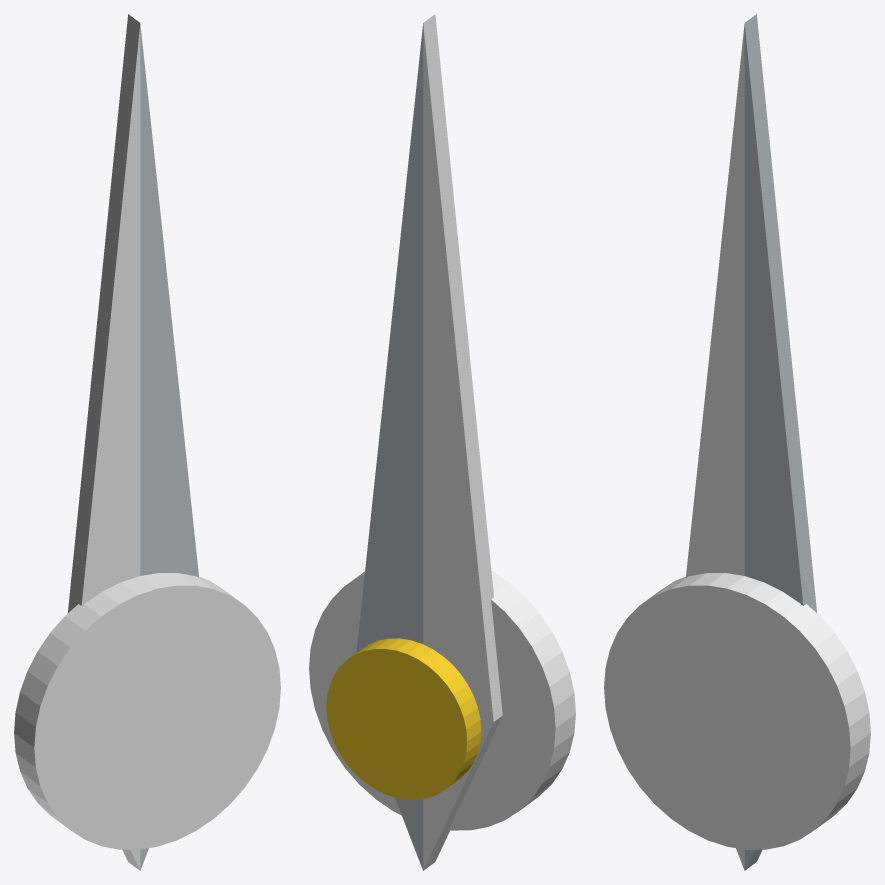
Rendered from ponteiro.glb.
3 views of the same model, side by side, from view 1: azimuth 30°, elevation 25°; view 2: azimuth 150°, elevation 25°; view 3: azimuth 330°, elevation 25° (orthographic).
Parts seen in each view (by area): view 1: horn_original_representado, ponteiro_afilado_claro, ponteiro_afilado_sombra; view 2: ponteiro_afilado_claro, ponteiro_afilado_sombra, horn_original_representado, cubo_ponteiro; view 3: horn_original_representado, ponteiro_afilado_sombra, ponteiro_afilado_claro.
Boxes of the visible parts, box(x1,y1,x2,y2) form: horn_original_representado: box(14, 573, 280, 849); ponteiro_afilado_claro: box(68, 14, 140, 870); ponteiro_afilado_sombra: box(140, 24, 198, 870); ponteiro_afilado_claro: box(423, 14, 502, 870); ponteiro_afilado_sombra: box(356, 23, 423, 870); horn_original_representado: box(309, 570, 575, 830); cubo_ponteiro: box(326, 638, 481, 799); horn_original_representado: box(604, 573, 870, 849); ponteiro_afilado_sombra: box(744, 14, 816, 870); ponteiro_afilado_claro: box(686, 24, 744, 870).
Size of the model in its own units: 0.014 by 0.046 by 0.0055.
